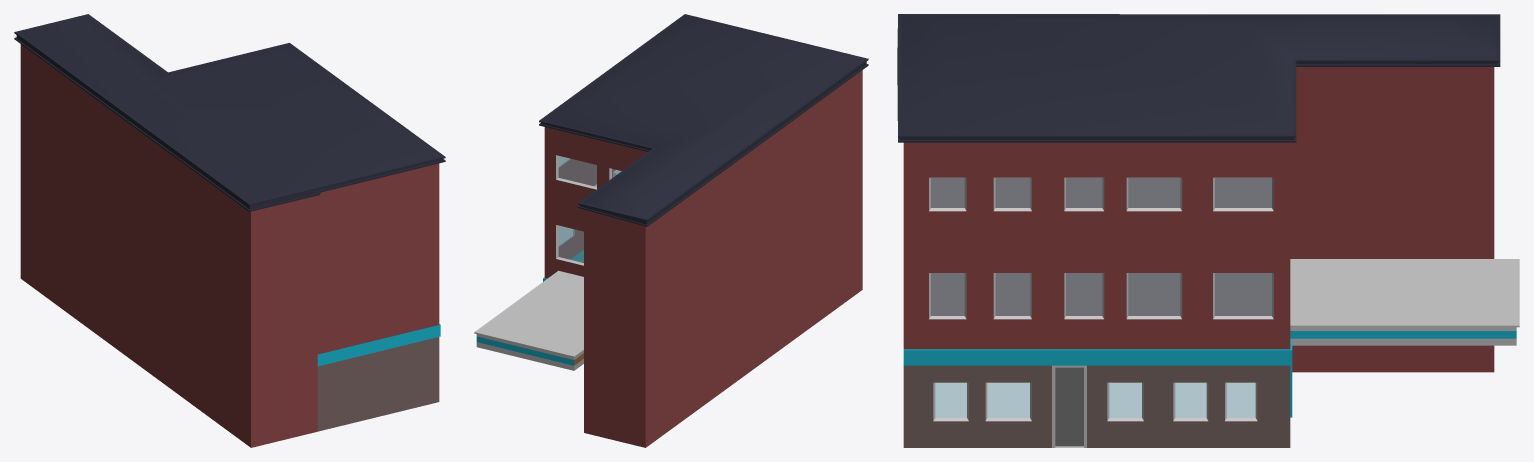
File: Uni_Back_Building2.fbx
3 renders of one model, left to right at view 1: azimuth 30°, elevation 25°; view 2: azimuth 150°, elevation 25°; view 3: azimuth 270°, elevation 25°, orthographic. The views are drawn at different scales.
Parts seen in each view (by area): view 1: UBB2; view 2: UBB2; view 3: UBB2.
Boxes of the visible parts, x1,y1,x2,y2 form: UBB2: (14, 14, 445, 447); UBB2: (474, 14, 868, 447); UBB2: (897, 14, 1519, 447).
Bounding box in the file's own units: 5988 × 7503 × 12884.
